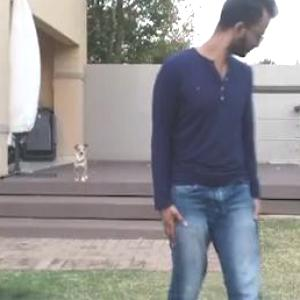follow: (1, 0, 190, 299), (154, 0, 284, 292)
